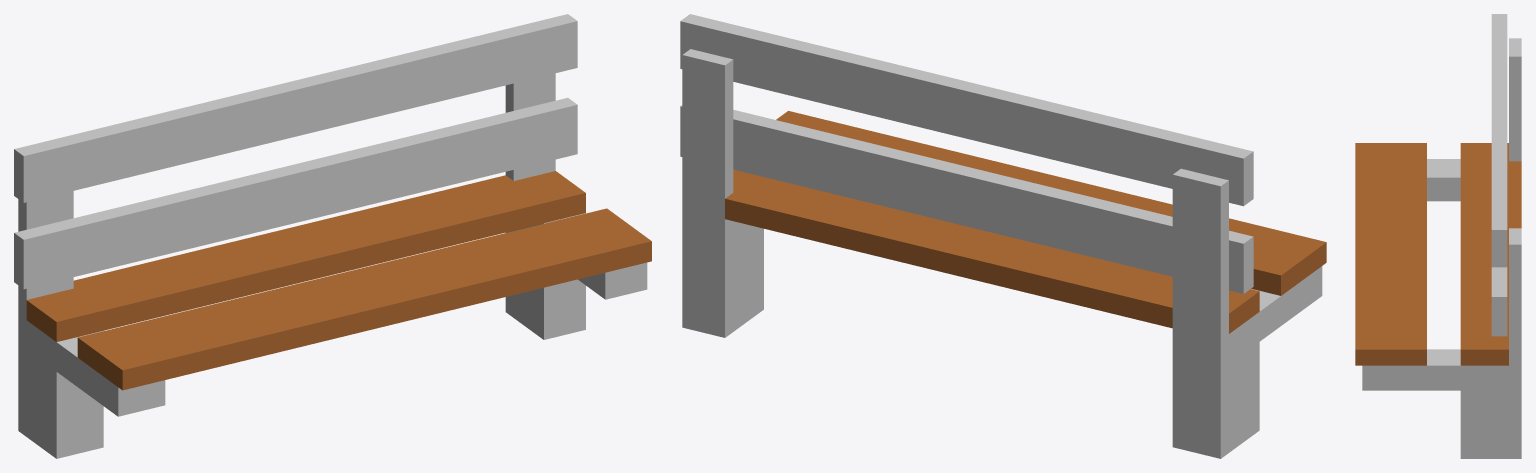
The model's file is bankje.fbx.
The picture shows the model from 3 angles, left to right: view 1: azimuth 30°, elevation 25°; view 2: azimuth 150°, elevation 25°; view 3: azimuth 270°, elevation 25°; orthographic projection. The views are drawn at different scales.
Visible parts, largest first — view 1: Plane.002, Plane.001, Plane; view 2: Plane.001, Plane, Plane.002; view 3: Plane.002, Plane, Plane.001.
Boxes of the visible parts, x1,y1,x2,y2 form: Plane.002: (26, 171, 651, 390); Plane.001: (14, 14, 577, 289); Plane: (18, 73, 647, 458); Plane.001: (680, 14, 1253, 293); Plane: (682, 49, 1322, 458); Plane.002: (725, 111, 1326, 333); Plane.002: (1355, 143, 1521, 365); Plane: (1362, 38, 1521, 458); Plane.001: (1491, 14, 1507, 336).
Size of the model in its own units: 416 by 209 by 135.
